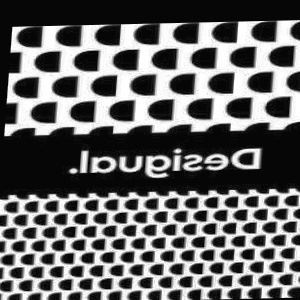desigual: (230, 78, 300, 197)
